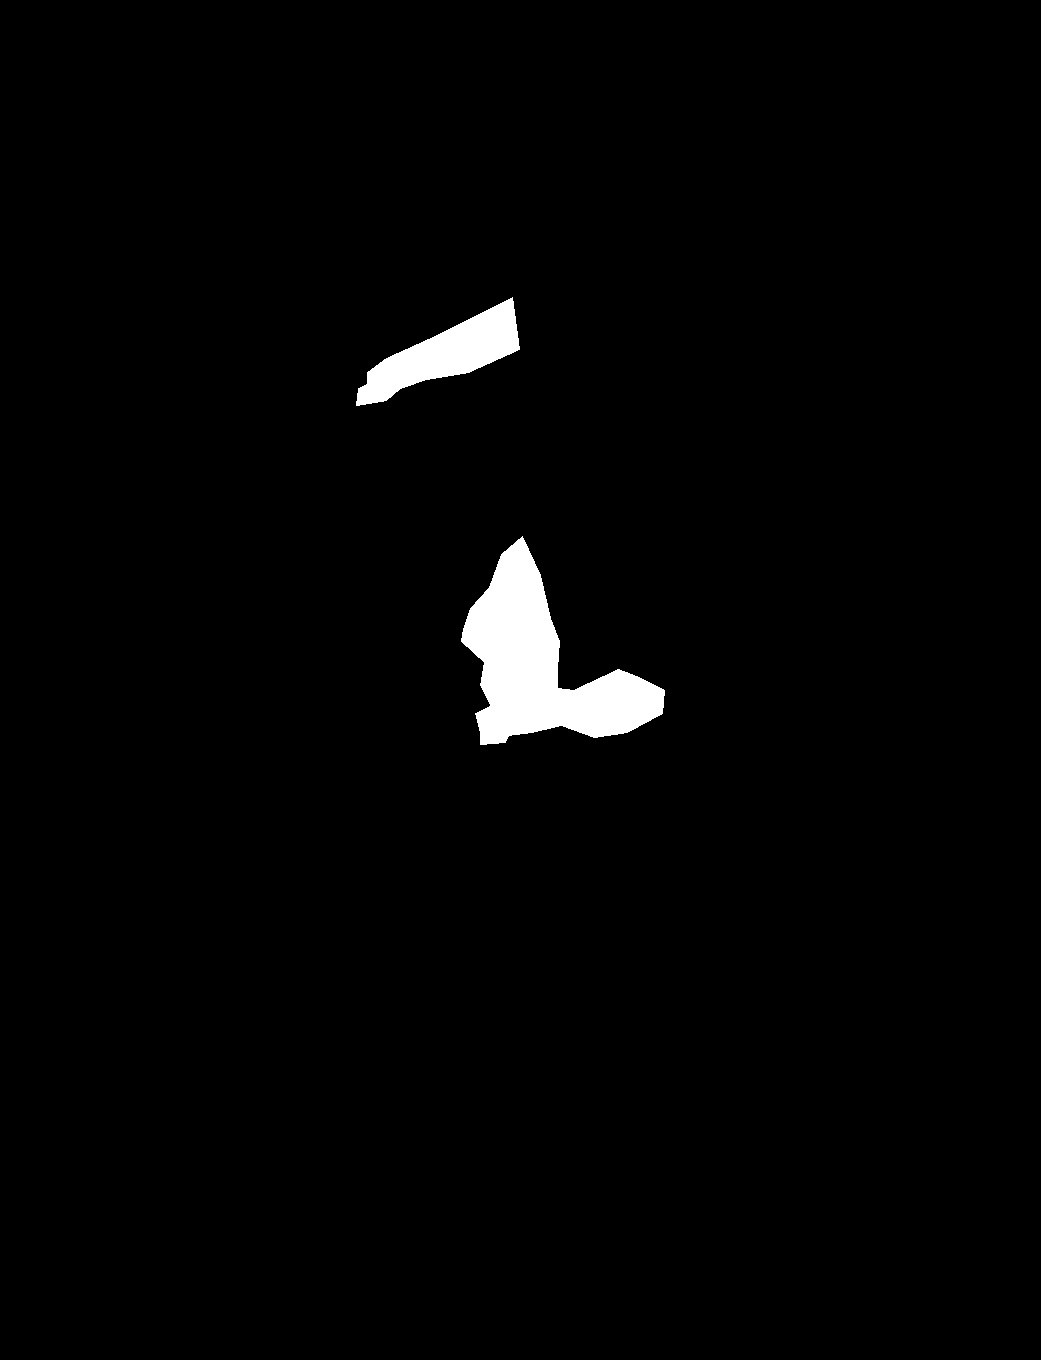Fire: (457, 581, 679, 761), (340, 318, 478, 442)
